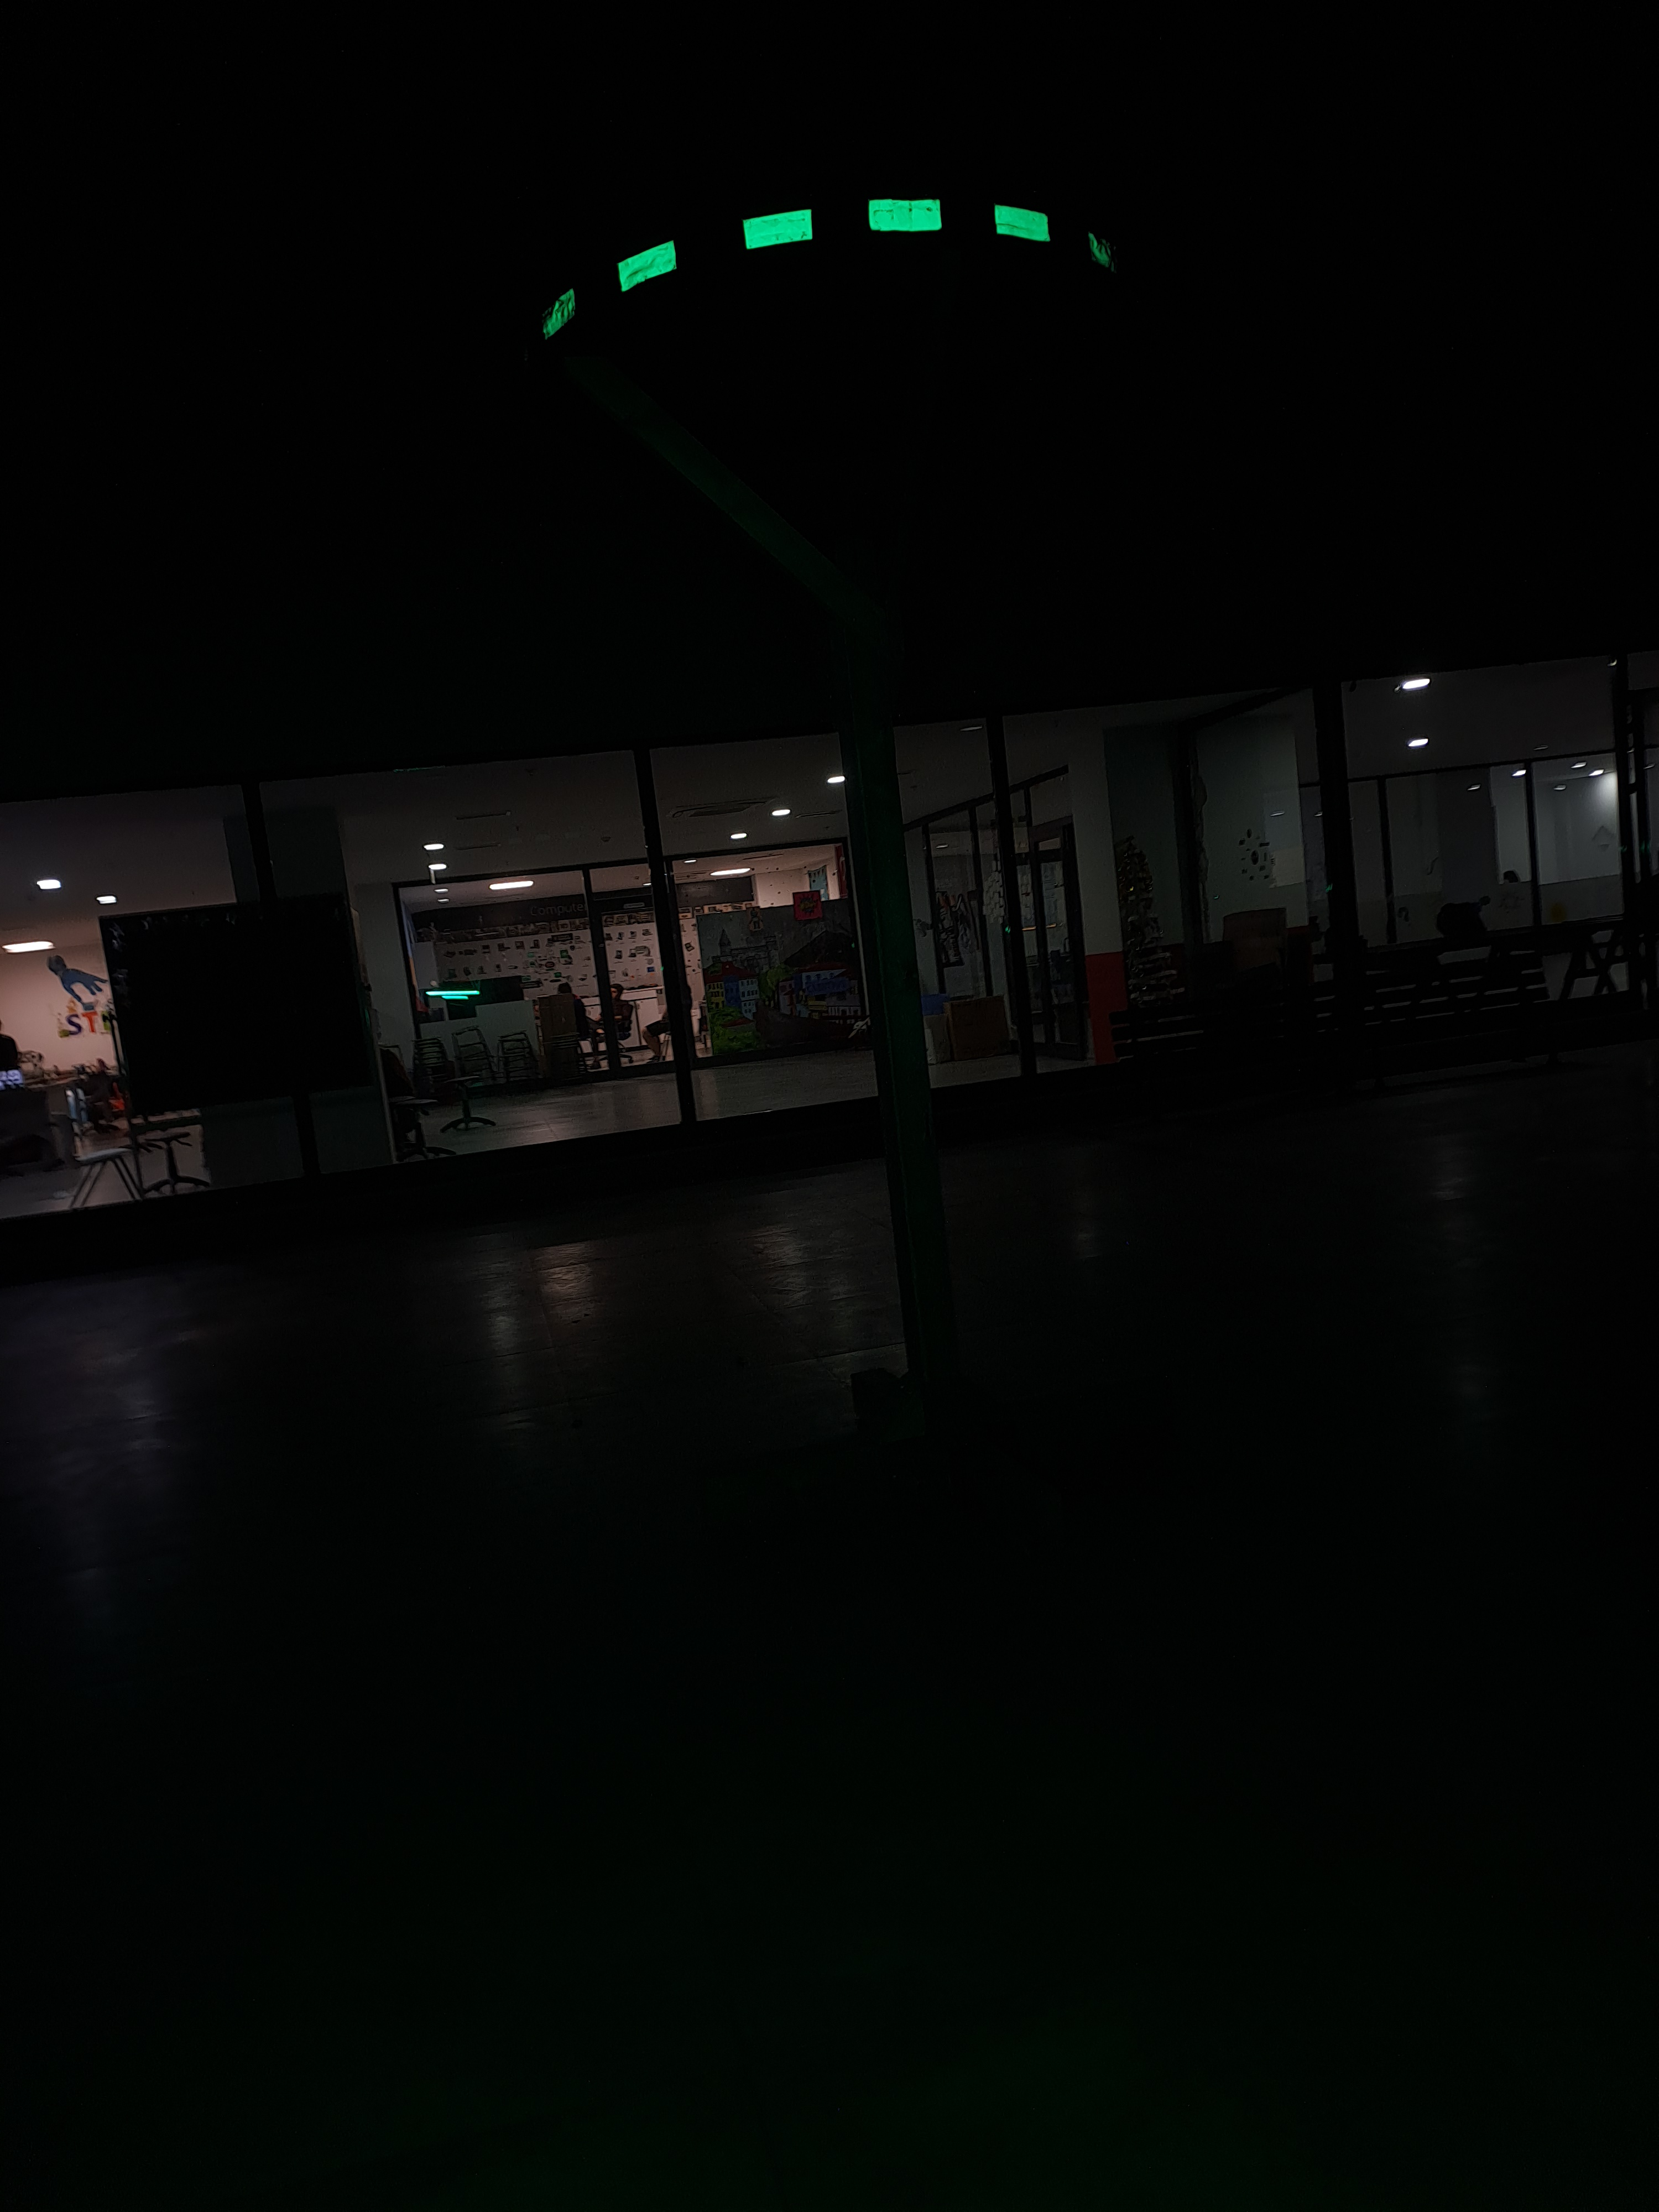hoop: (535, 193, 1124, 347)
